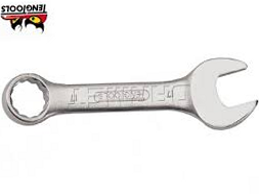Wrench: (3, 45, 259, 139)
